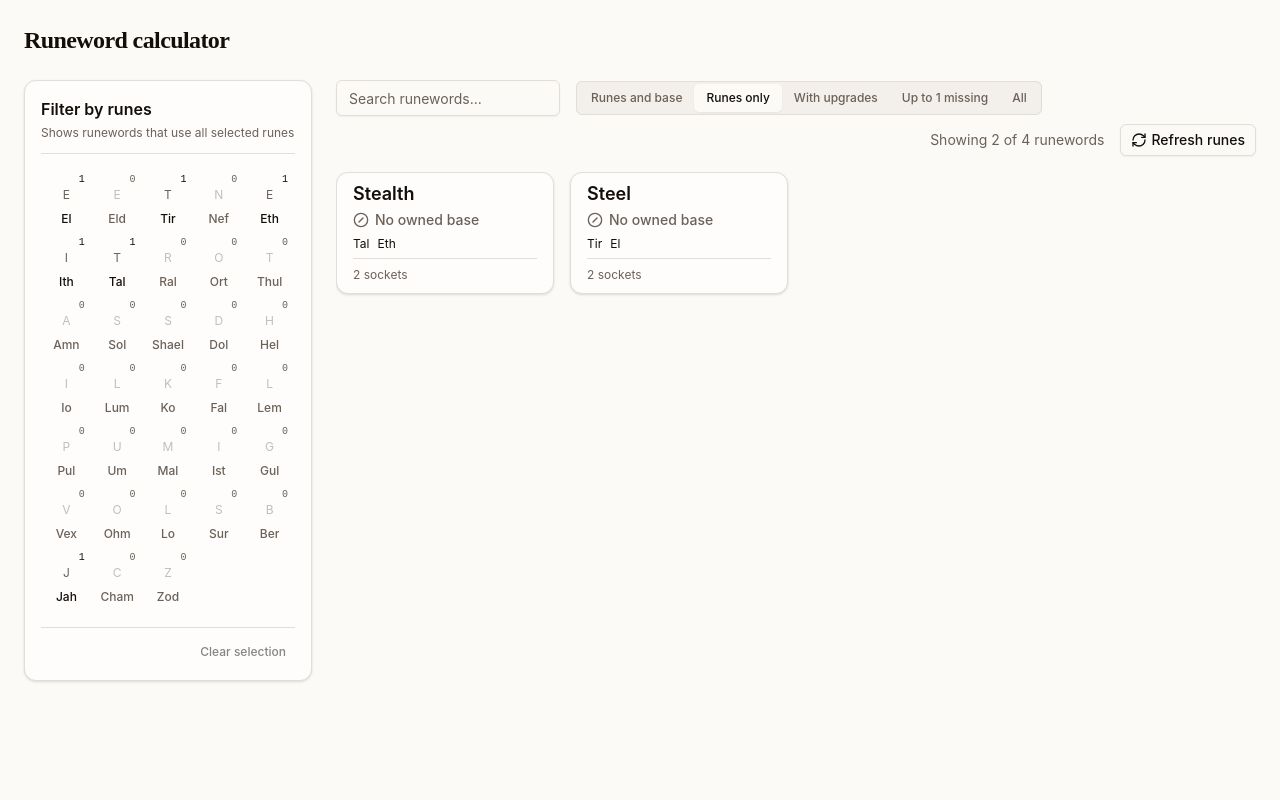
Test: RunewordCalculator › filtered empty state › If a search leaves no runewords missing at most 1 rune, then Show all is only offered when it would reveal results
Expected: the text "Showing 2 of 4 runewords" is shown, [930, 130, 1104, 150]
Click the button "Up to 1 missing" at (945, 98), box [890, 84, 1000, 112]
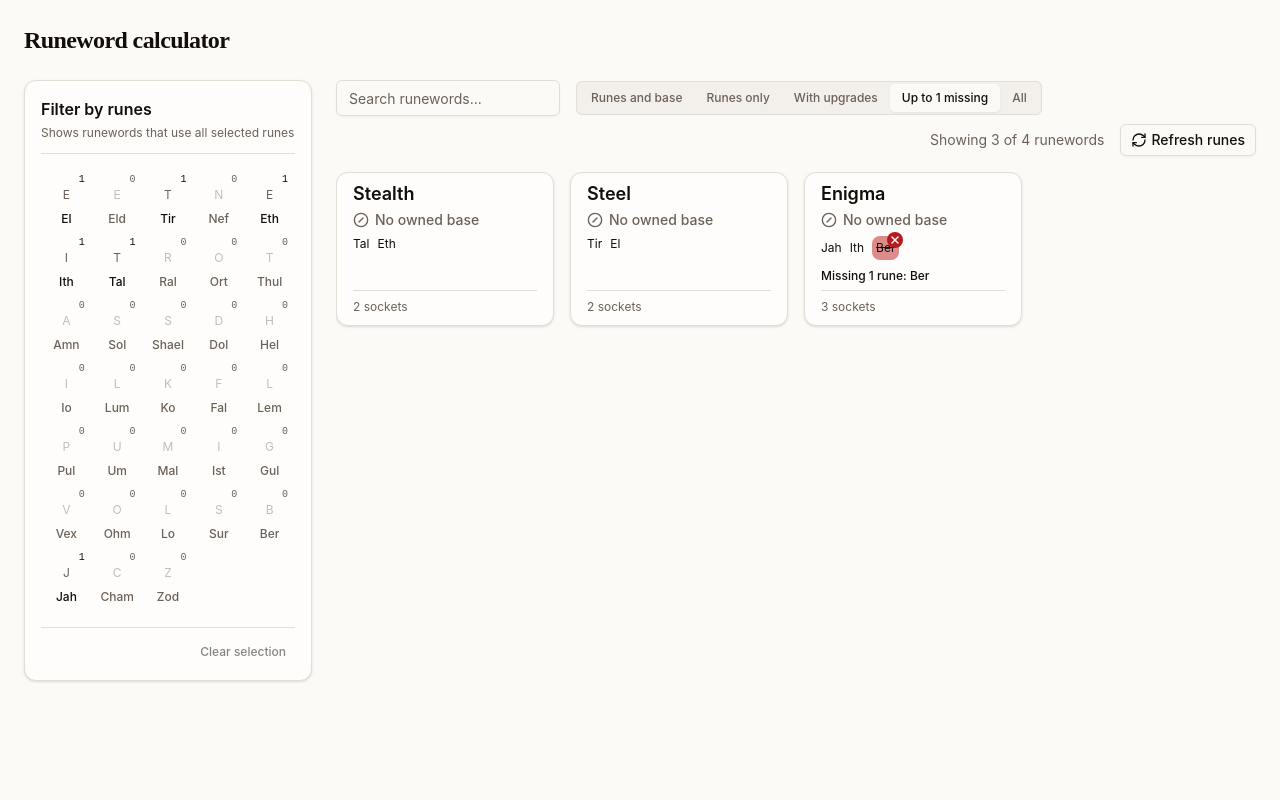
Type "zzz" into the field with placeholder "Search runewords..." at (448, 98), box [336, 80, 560, 116]
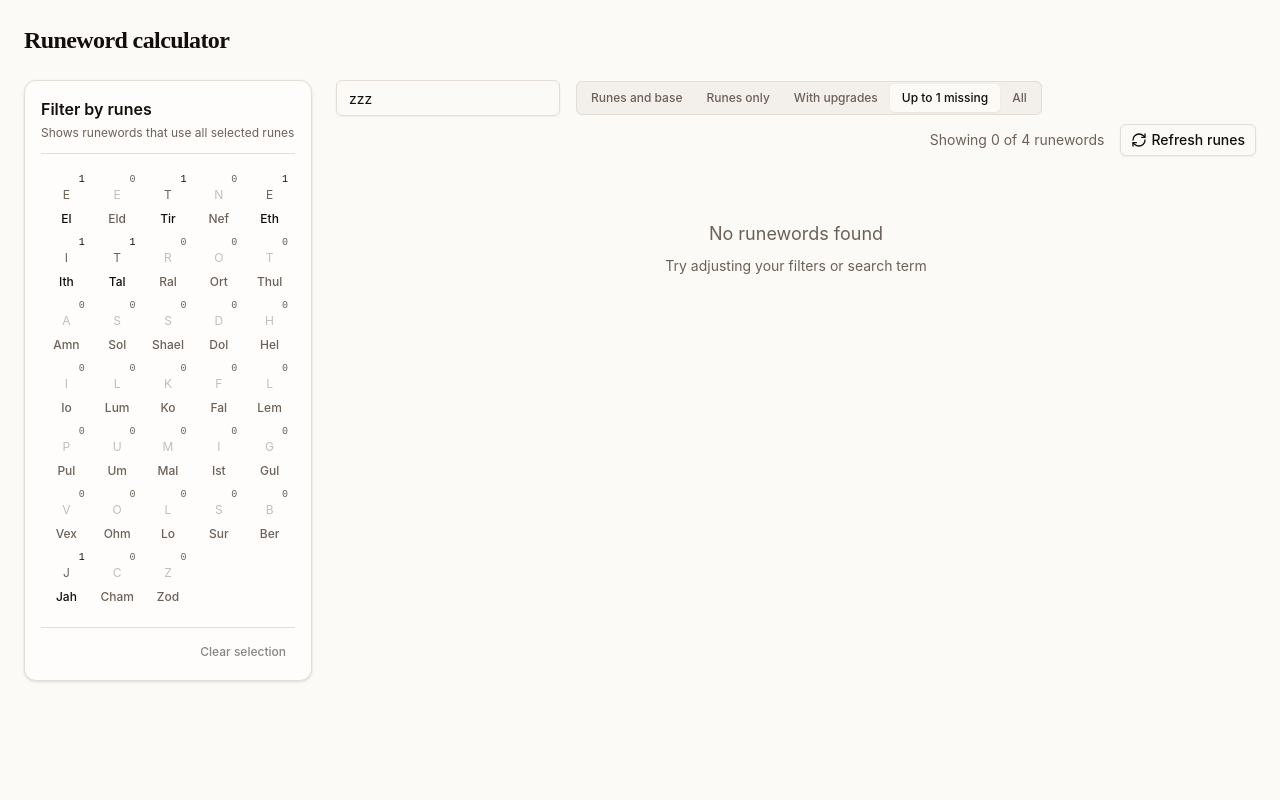
Expected: the button "Show all runewords" is not shown
Replace the text in the field with placeholder "Search runewords..." with "Infinity" at (448, 98), box [336, 80, 560, 116]
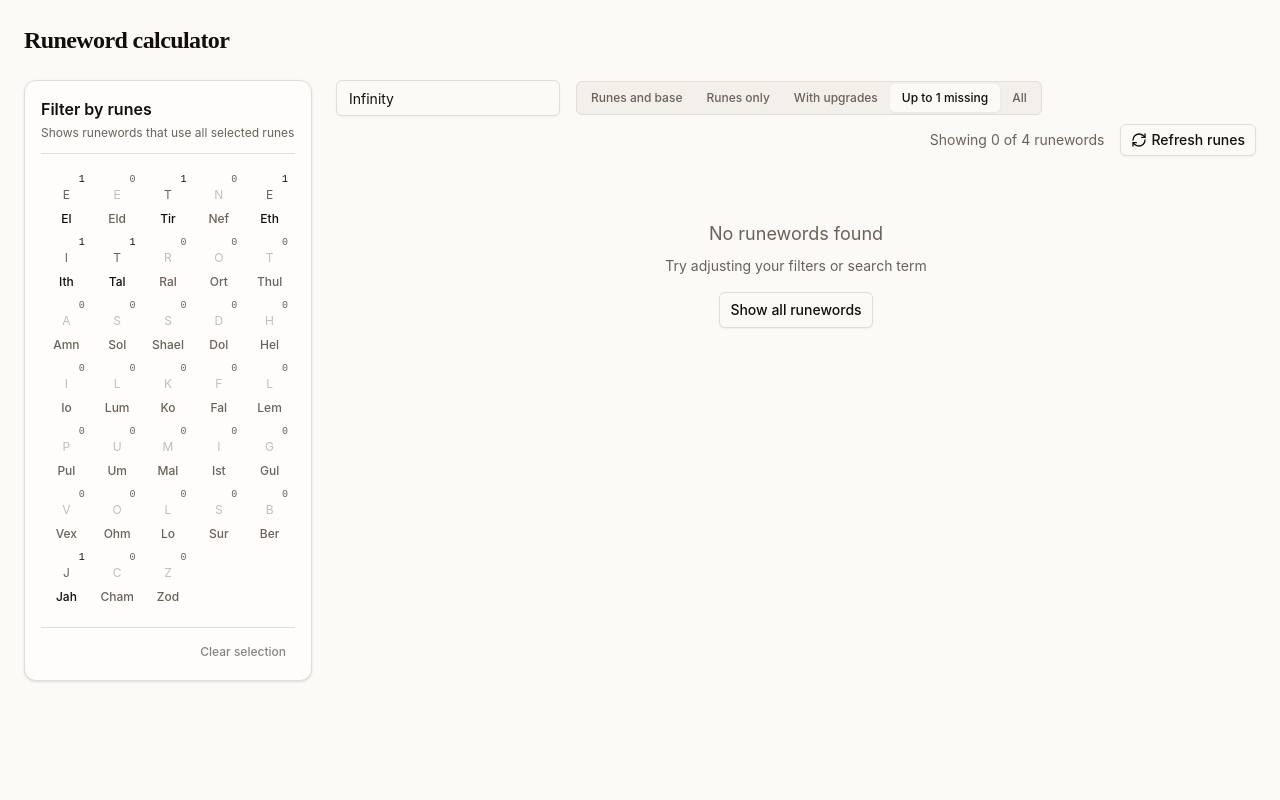
Now the button "Show all runewords" is shown, box [719, 292, 873, 328]
